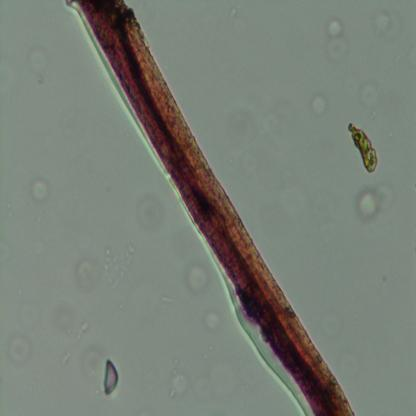Air bubble: (100, 355, 122, 396)
Background material: (260, 175, 306, 221), (100, 244, 134, 290), (349, 123, 379, 175), (356, 182, 393, 224), (62, 319, 89, 363), (323, 18, 347, 66), (136, 194, 164, 232), (183, 260, 210, 296), (75, 255, 101, 292), (167, 365, 191, 403), (6, 332, 32, 366), (357, 79, 381, 113), (26, 48, 46, 88), (373, 10, 400, 38), (263, 98, 281, 137), (30, 176, 52, 207), (85, 350, 104, 384), (308, 92, 331, 118), (204, 310, 222, 334), (221, 3, 243, 18), (159, 294, 179, 307)
Cotton: (72, 1, 354, 415)
